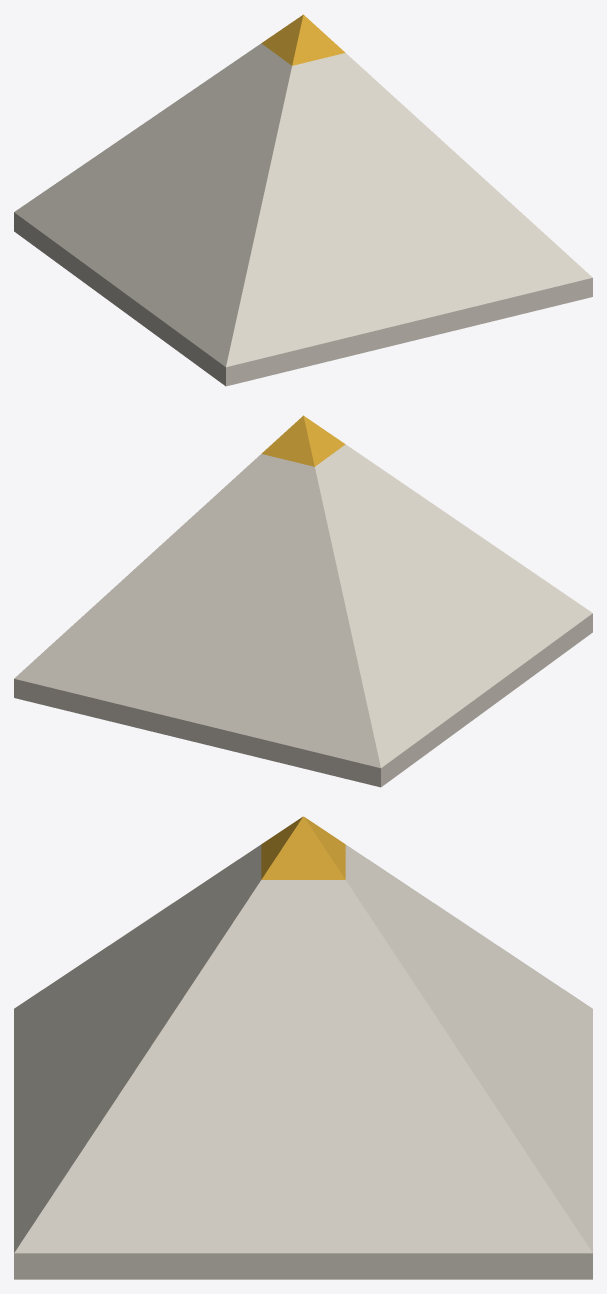
File: eg_pyramidion.glb
3 renders of one model, top to bottom at view 1: azimuth 30°, elevation 25°; view 2: azimuth 150°, elevation 25°; view 3: azimuth 270°, elevation 25°, orthographic. The views are drawn at different scales.
Visible parts, largest first — view 1: eg_pyramidion; view 2: eg_pyramidion; view 3: eg_pyramidion.
Part boxes in pixels (<box>): eg_pyramidion: <box>14,14,592,386</box>; eg_pyramidion: <box>14,415,592,787</box>; eg_pyramidion: <box>14,816,592,1279</box>.
Size of the model in its own units: 4 by 2.6 by 4.
